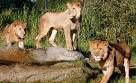lion: (35, 1, 83, 50), (87, 38, 131, 81), (1, 19, 27, 49)
